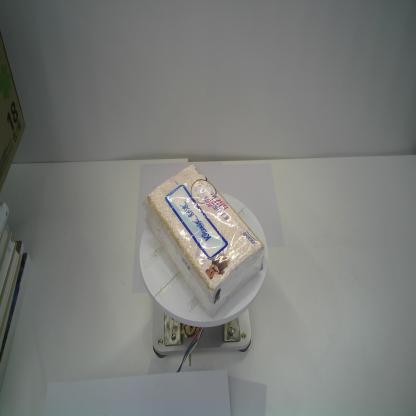Tissue: (145, 163, 265, 319)
